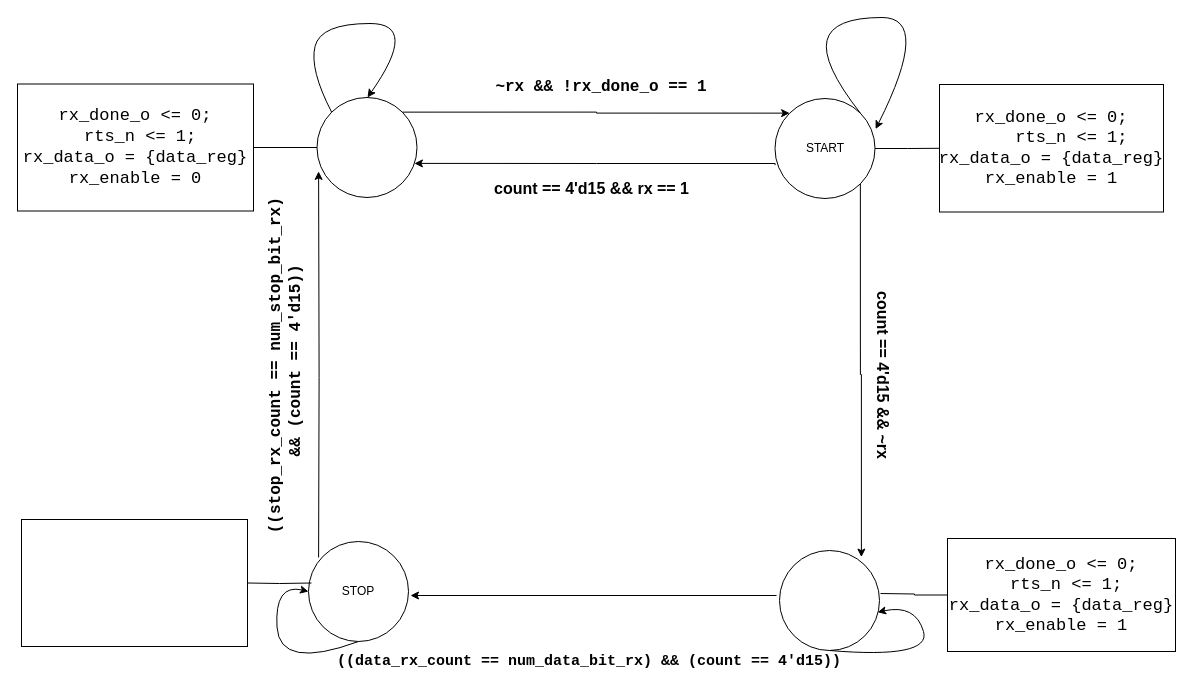
The diagram is 1193 pixels wide and 694 high, and some of its shapes have lost their labels. Each missing label, with the centre of its shape:
DATA: the point at 829,600
IDLE: the point at 366,147
rx_done_o <= 1; rts_n <= 0; rx_data_o = {data_reg} rx_enable = 1: the point at 134,582
